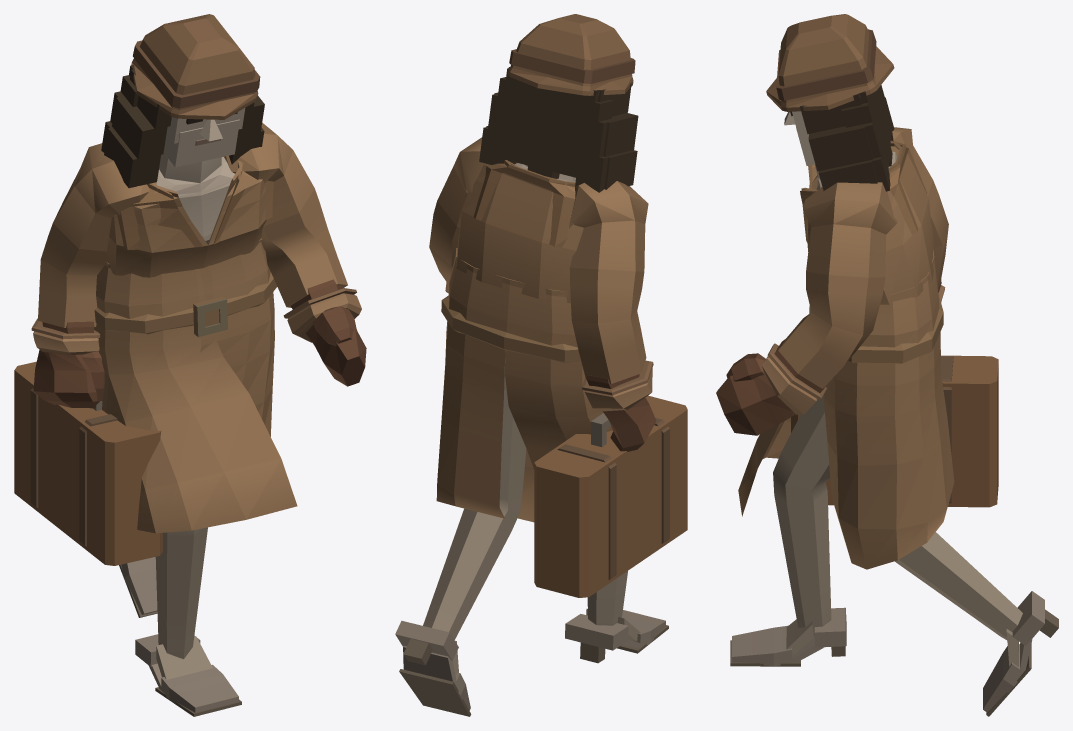
Rendered from passenger-ac425a__walk5.glb.
3 views of the same model, side by side, from view 1: azimuth 30°, elevation 25°; view 2: azimuth 150°, elevation 25°; view 3: azimuth 270°, elevation 25° (orthographic). The views are drawn at different scales.
Visible parts, largest first — view 1: passenger-ac425a__walk5; view 2: passenger-ac425a__walk5; view 3: passenger-ac425a__walk5.
Boxes of the visible parts, left/top/right/bottom form: passenger-ac425a__walk5: left=14, top=14, right=366, bottom=716; passenger-ac425a__walk5: left=395, top=14, right=687, bottom=716; passenger-ac425a__walk5: left=716, top=14, right=1058, bottom=716.
Size of the model in its own units: 0.7393 by 1.77 by 0.8316.
